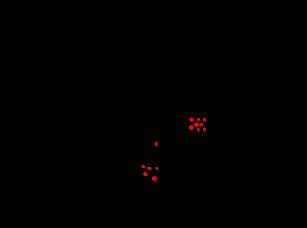Target: (194, 122, 199, 127), (152, 176, 157, 181), (189, 125, 193, 130), (143, 172, 147, 176), (189, 118, 194, 121), (203, 127, 206, 131), (147, 167, 151, 170), (197, 118, 200, 121), (203, 118, 206, 121), (200, 123, 203, 126), (142, 165, 145, 168), (155, 167, 158, 170), (155, 142, 157, 146), (197, 128, 199, 131)
